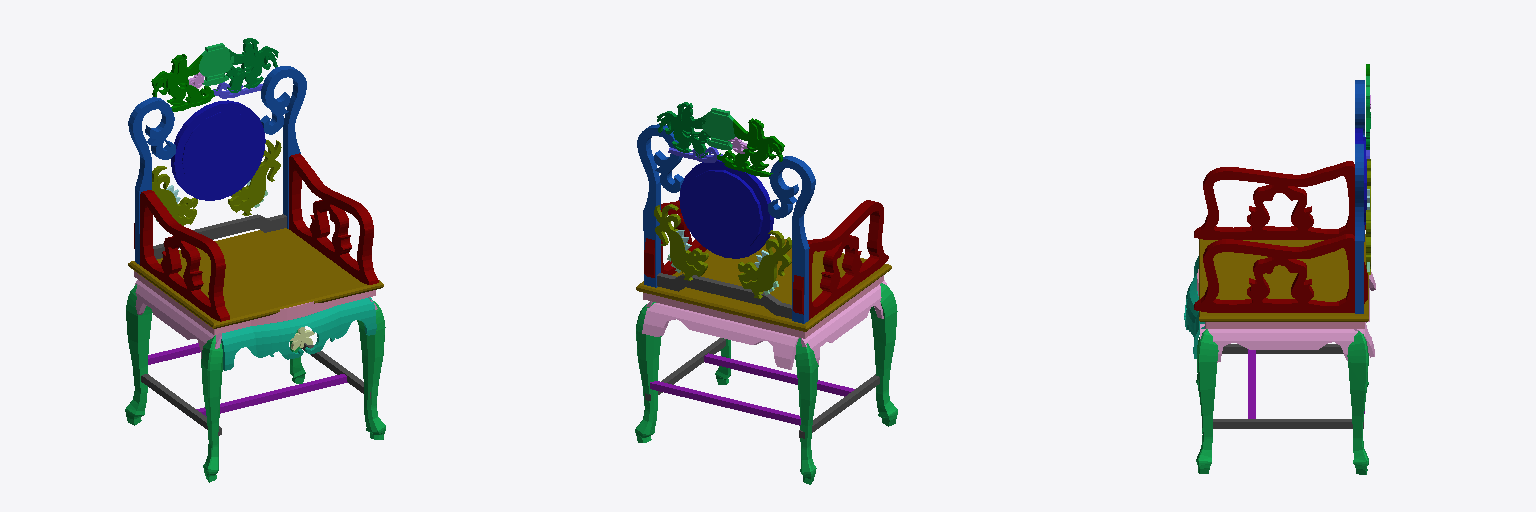
The picture shows the model from 3 angles: view 1: azimuth 30°, elevation 25°; view 2: azimuth 150°, elevation 25°; view 3: azimuth 270°, elevation 25°; orthographic projection.
Parts seen in each view (by area): view 1: Box05, Line15, Line16, Cylinder02, Object03, Line03, Line01, Cylinder01, Loft02, Loft01, Loft03, Object23 (+10 smaller); view 2: Box05, Line15, Cylinder02, Line18, Line01, Line03, Loft01, Loft02, Cylinder01, Loft04, Object23, Line10 (+11 smaller); view 3: Box05, Line16, Line15, Line14, Loft03, Loft04, Line03, Box02, Object02, Object03, Box03, Box01.
Part boxes in pixels (bbox=[...]): Box05: bbox=[128, 228, 383, 328]; Line15: bbox=[134, 190, 229, 321]; Line16: bbox=[289, 153, 378, 284]; Cylinder02: bbox=[182, 112, 257, 192]; Object03: bbox=[221, 297, 376, 370]; Line03: bbox=[260, 66, 306, 228]; Line01: bbox=[128, 97, 175, 264]; Cylinder01: bbox=[171, 100, 265, 200]; Loft02: bbox=[125, 284, 152, 425]; Loft01: bbox=[201, 335, 222, 482]; Loft03: bbox=[357, 301, 385, 439]; Object23: bbox=[151, 54, 217, 111]; Box05: bbox=[636, 236, 891, 331]; Line15: bbox=[793, 200, 888, 319]; Cylinder02: bbox=[685, 170, 762, 251]; Line18: bbox=[642, 303, 798, 369]; Line01: bbox=[768, 156, 815, 323]; Line03: bbox=[637, 124, 683, 287]; Loft01: bbox=[870, 283, 897, 426]; Loft02: bbox=[795, 338, 818, 484]; Cylinder01: bbox=[679, 160, 773, 258]; Loft04: bbox=[635, 302, 661, 442]; Object23: bbox=[717, 118, 784, 176]; Line10: bbox=[657, 273, 791, 318]; Box05: bbox=[1199, 234, 1368, 321]; Line16: bbox=[1194, 234, 1367, 312]; Line15: bbox=[1194, 161, 1365, 239]; Line14: bbox=[1200, 324, 1362, 362]; Loft03: bbox=[1196, 329, 1218, 473]; Loft04: bbox=[1347, 331, 1368, 474]; Line03: bbox=[1355, 144, 1363, 313]; Box02: bbox=[1213, 419, 1363, 428]; Object02: bbox=[1197, 269, 1364, 328]; Object03: bbox=[1184, 256, 1204, 358]; Box03: bbox=[1222, 344, 1343, 353]; Box01: bbox=[1248, 349, 1255, 418].
Bounding box in the file's own units: 12205 × 23111 × 11344.